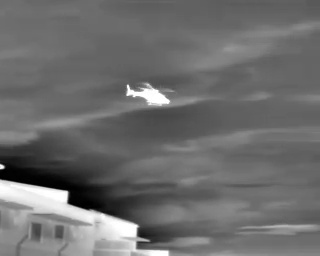HELICOPTER: (123, 74, 179, 115)
